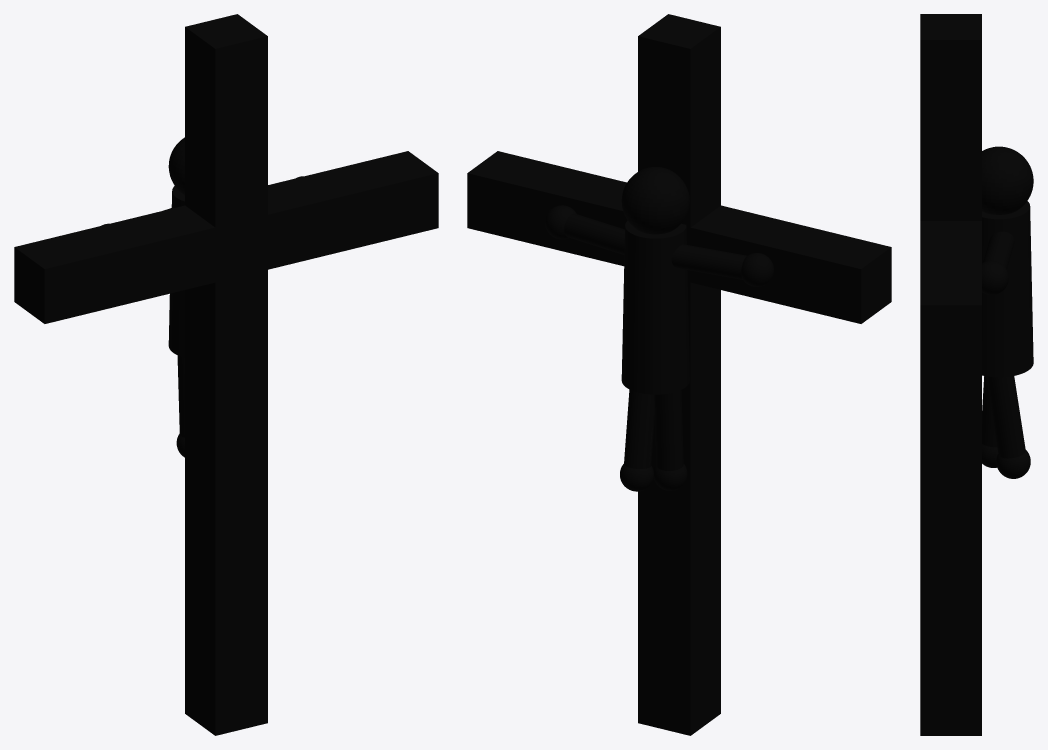
Rendered from cruz.glb.
3 renders of one model, left to right at view 1: azimuth 30°, elevation 25°; view 2: azimuth 150°, elevation 25°; view 3: azimuth 270°, elevation 25°, orthographic.
Parts seen in each view (by area): view 1: node_id5; view 2: node_id5; view 3: node_id5.
Boxes of the visible parts, x1=… form: node_id5: x1=14, y1=14, x2=438, y2=735; node_id5: x1=467, y1=14, x2=891, y2=735; node_id5: x1=920, y1=14, x2=1033, y2=735.
Size of the model in its own units: 0.3072 by 0.512 by 0.0755.
Materials: 1 (1 with a texture image).
